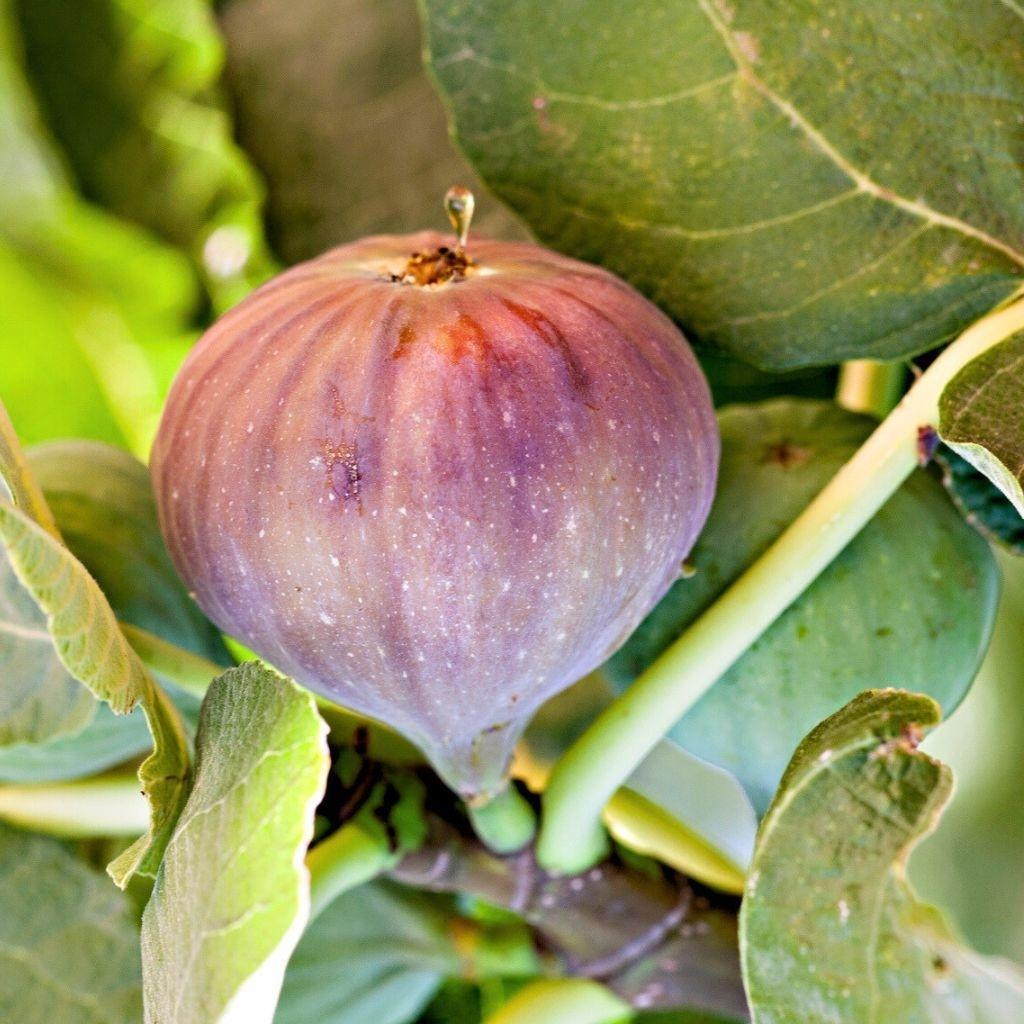fig: (146, 185, 722, 809)
